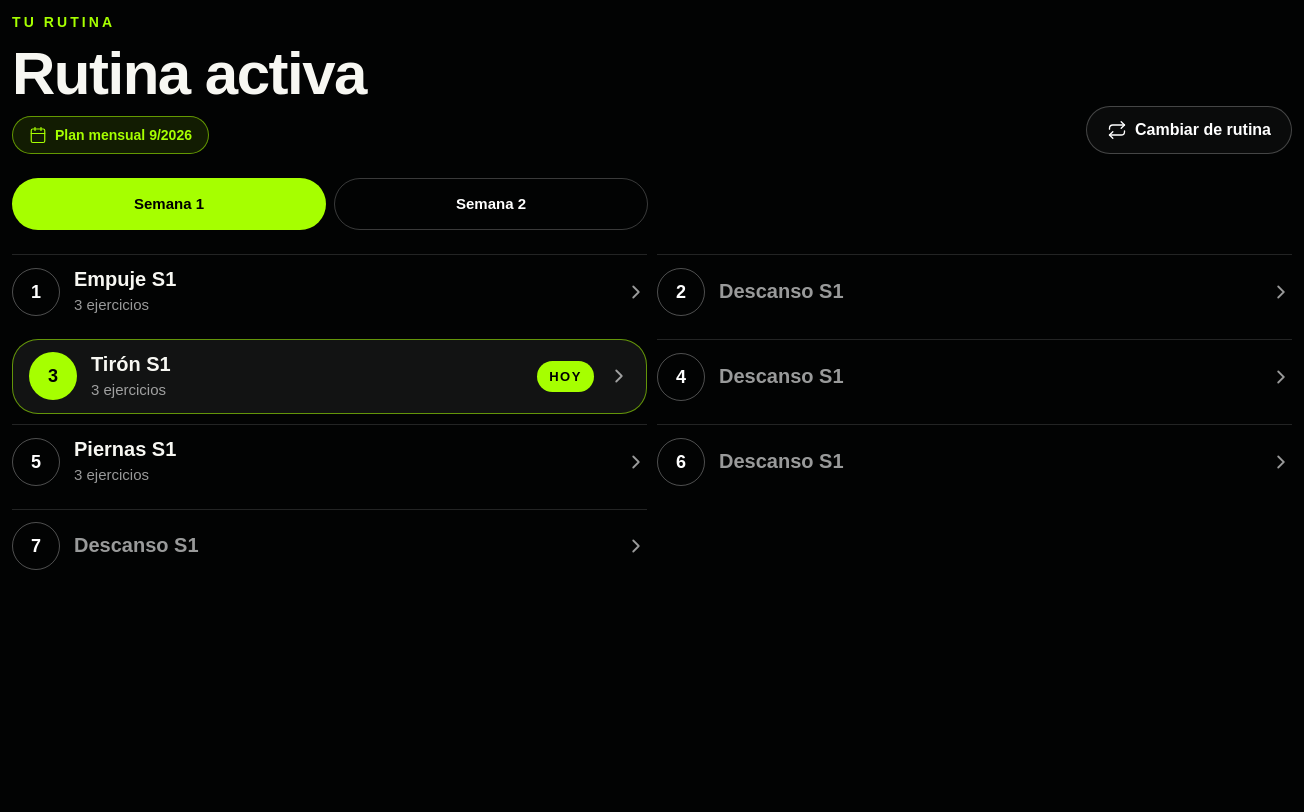
Test case: RoutinePageContent with an active routine › switches the visible days when a different week is selected
The width and height of the screenshot is (1304, 812).
Expected: the link "1 Empuje S1 3 ejercicios" is shown, [12,254,647,328]
What coordinates should you click on to do the following:
click the button "Semana 2"
I would click on:
 (491, 204)
Its box is [334,178,648,230].
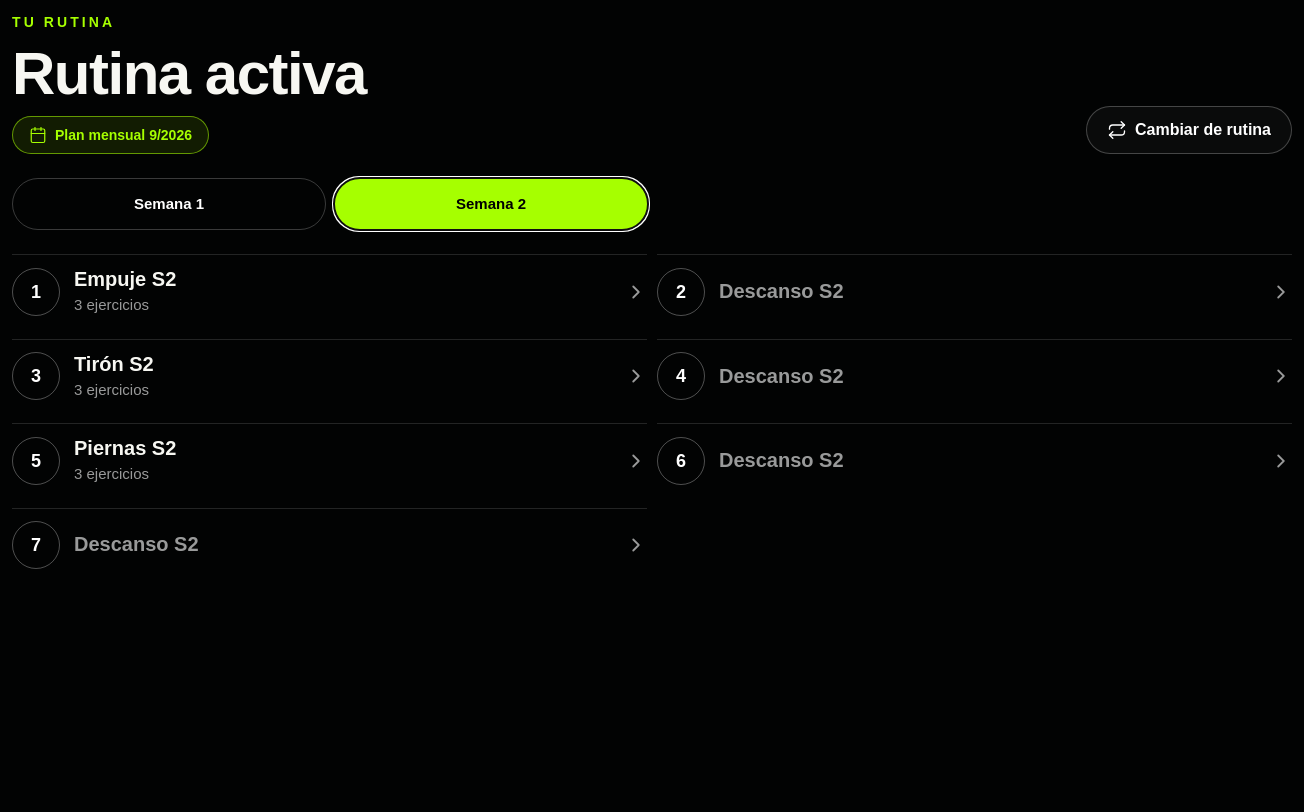
Expected: the link "5 Piernas S2 3 ejercicios" is shown, [12,423,647,498]
Expected: the link "Empuje S1" is gone
